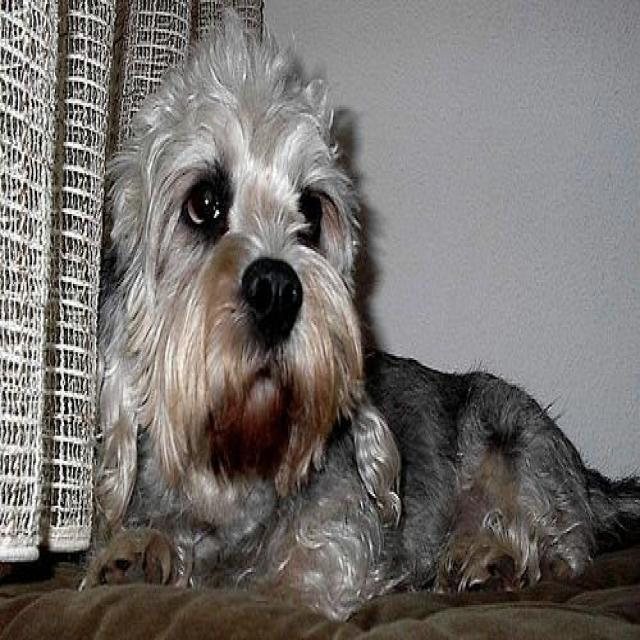dandie_dinmont: (80, 8, 638, 630)
